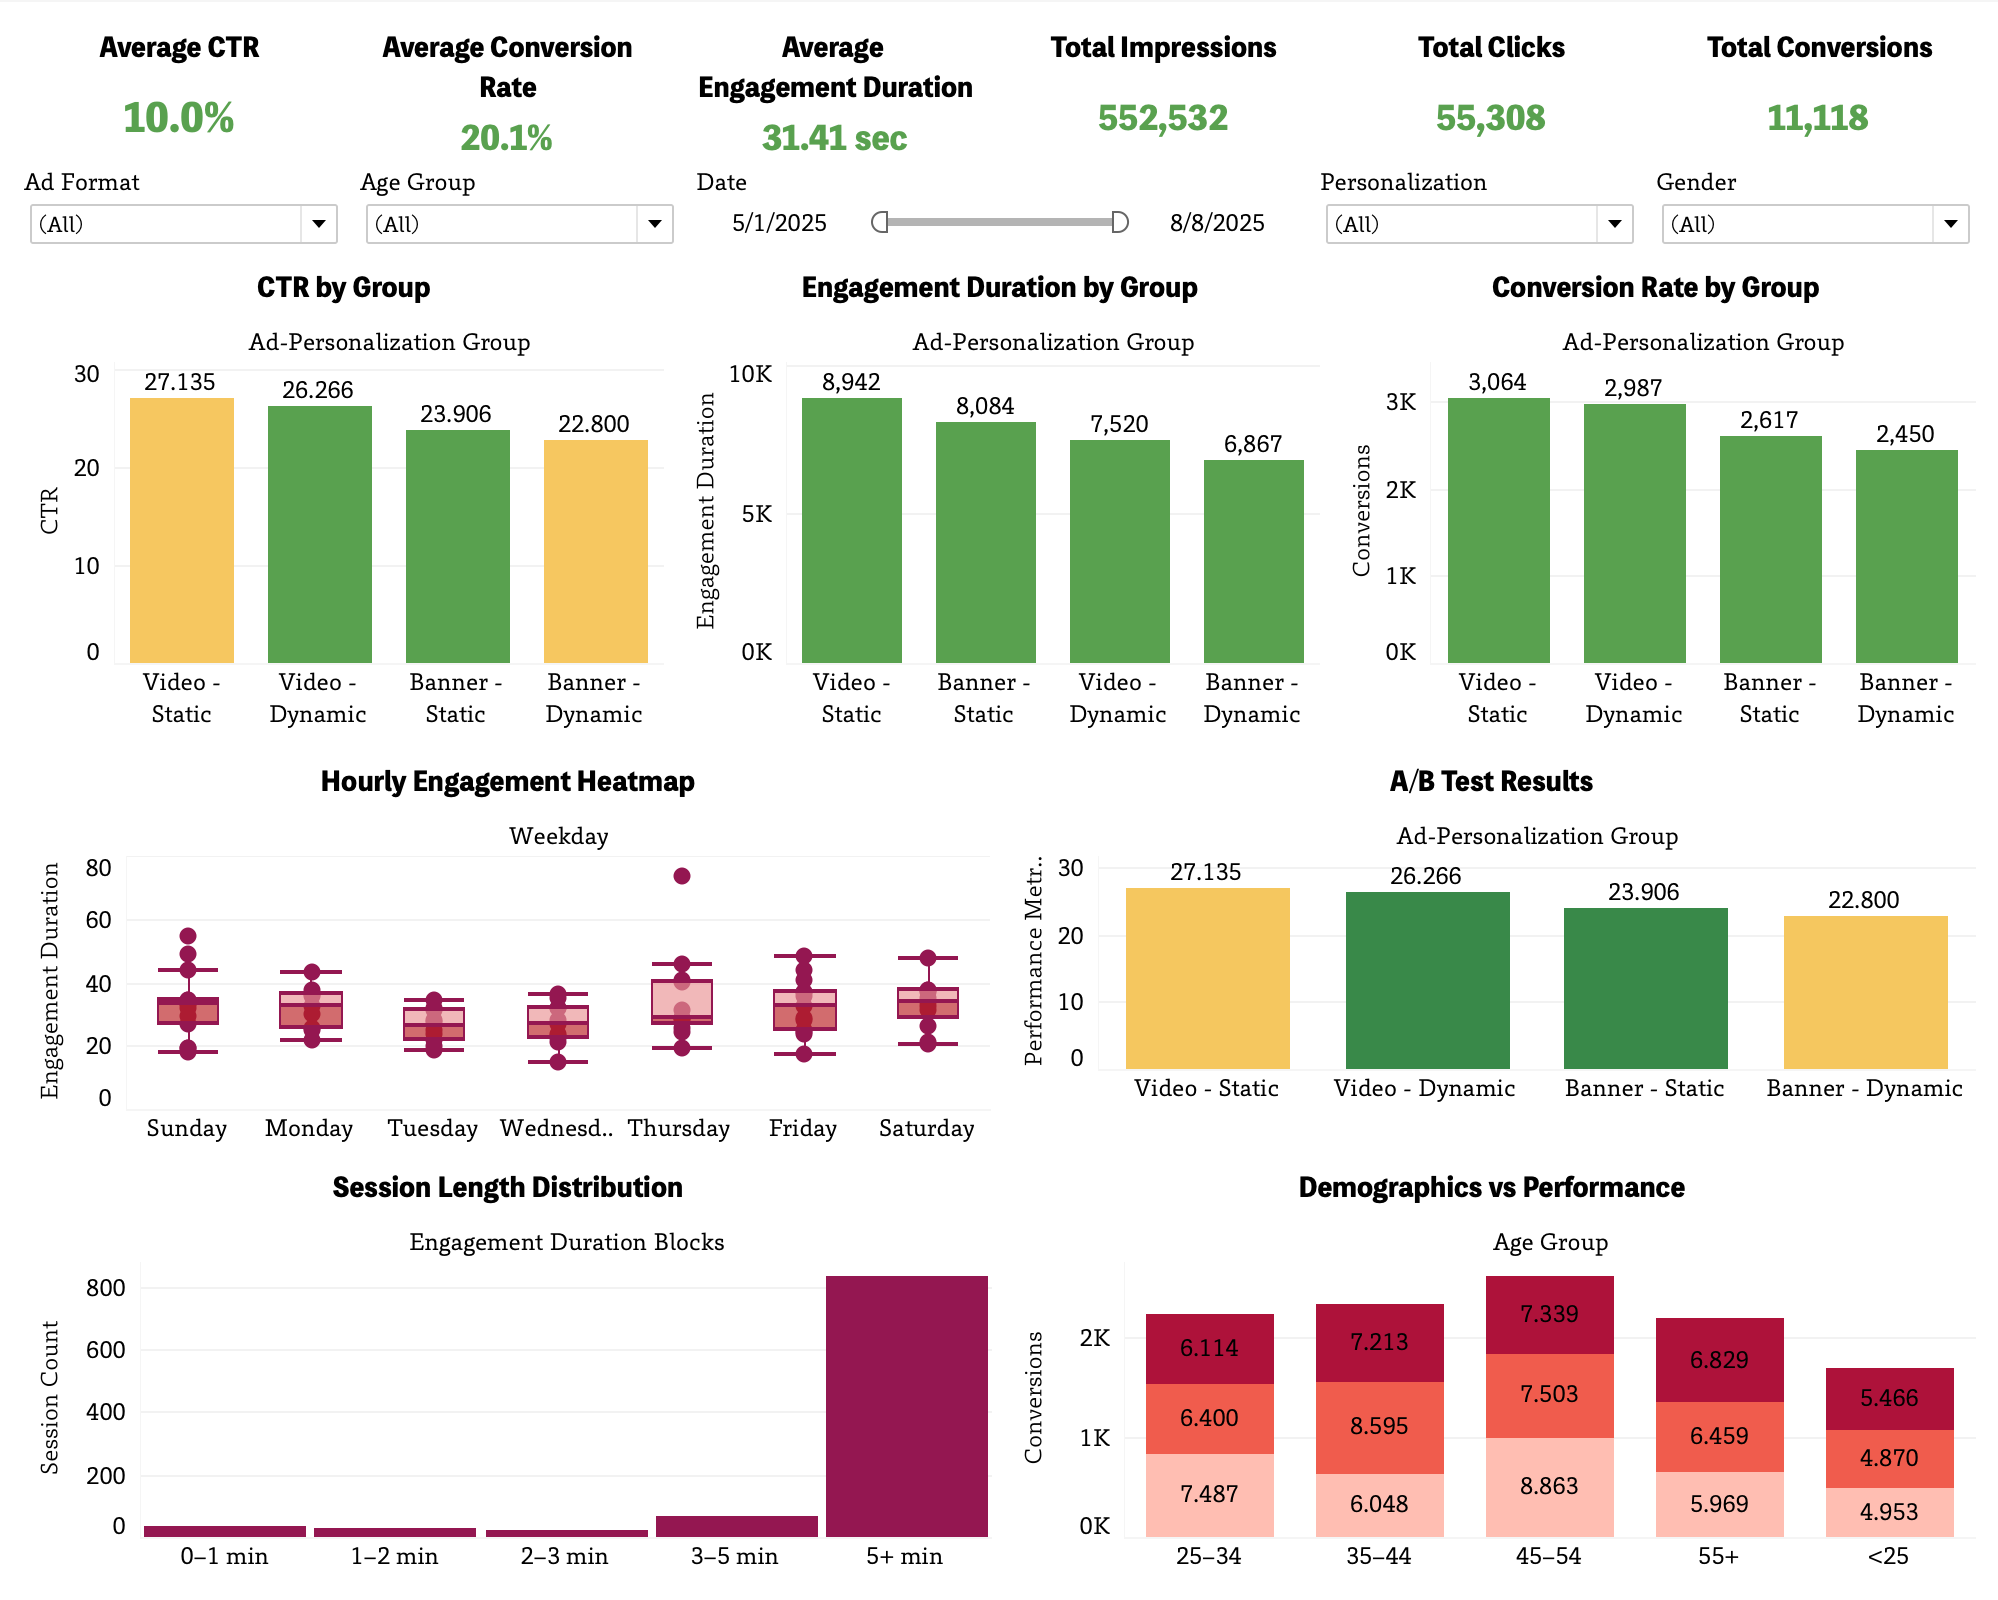

The page's visual inventory and layout, read from the dashboard file:
{"tool":"tableau","page":{"name":"Dashboard 1","canvas":[1000,800],"ordinal":0},"visuals":[{"type":"worksheet","title":"KPI Overview - CTR","mark":"Automatic","box":[8,8,164,72]},{"type":"worksheet","title":"KPI Overview - Conversion Rate","mark":"Automatic","box":[172,8,164,72]},{"type":"worksheet","title":"KPI Overview - Engagement Duration","mark":"Automatic","box":[336,8,164,72]},{"type":"worksheet","title":"KPI Overview - Total Impressions","mark":"Automatic","box":[500,8,164,72]},{"type":"worksheet","title":"KPI Overview - Total Clicks","mark":"Automatic","box":[664,8,164,72]},{"type":"worksheet","title":"KPI Overview - Total Conversions","mark":"Automatic","box":[828,8,164,72]},{"type":"filter","title":"KPI Overview - CTR","param":"[federated.14p4e0f1i6yzbu17s9sfd10hljon].[none:ad_format:nk]","box":[8,80,168,48]},{"type":"filter","title":"KPI Overview - CTR","param":"[federated.14p4e0f1i6yzbu17s9sfd10hljon].[none:Calculation_3342585738426736662:n","box":[176,80,168,48]},{"type":"filter","title":"KPI Overview - CTR","param":"[federated.14p4e0f1i6yzbu17s9sfd10hljon].[none:interaction:qk]","box":[344,80,312,48]},{"type":"filter","title":"KPI Overview - CTR","param":"[federated.14p4e0f1i6yzbu17s9sfd10hljon].[none:personalization:nk]","box":[656,80,168,48]},{"type":"filter","title":"KPI Overview - CTR","param":"[federated.14p4e0f1i6yzbu17s9sfd10hljon].[none:gender:nk]","box":[824,80,168,48]},{"type":"worksheet","title":"CTR by Group","mark":"Bar","rows":["ctr"],"cols":["Calculation_3342585738415947795"],"box":[8,128,328,247]},{"type":"worksheet","title":"Engagement Duration by Group","mark":"Automatic","rows":["engagement_duration"],"cols":["Calculation_3342585738415947795"],"box":[336,128,328,247]},{"type":"worksheet","title":"Conversion Rate by Group","mark":"Automatic","rows":["conversions"],"cols":["Calculation_3342585738415947795"],"box":[664,128,328,247]},{"type":"worksheet","title":"Hourly Engagement Heatmap","mark":"Circle","rows":["Calculation_3342585738112802817"],"cols":["Calculation_3342585738394431503"],"box":[8,375,492,203]},{"type":"worksheet","title":"A/B Test Results","mark":"Automatic","rows":["Calculation_3342585738421579796"],"cols":["Calculation_3342585738415947795"],"box":[500,375,492,203]},{"type":"worksheet","title":"Session Length Distribution","mark":"Automatic","rows":["Calculation_3342585738408837138"],"cols":["Calculation_3342585739472158779"],"box":[8,578,492,214]},{"type":"worksheet","title":"Demo vs Performance","mark":"Automatic","rows":["conversions"],"cols":["Calculation_3342585738426736662"],"box":[500,578,492,214]}]}

Visuals, with their boxes in screenshot pixels (x1, y1, x2, y2), scaled from the page's 1000x800 canvas onto the 1998x1600 screenshot:
"KPI Overview - CTR" worksheet: bbox=(16, 16, 344, 160)
"KPI Overview - Conversion Rate" worksheet: bbox=(344, 16, 671, 160)
"KPI Overview - Engagement Duration" worksheet: bbox=(671, 16, 999, 160)
"KPI Overview - Total Impressions" worksheet: bbox=(999, 16, 1327, 160)
"KPI Overview - Total Clicks" worksheet: bbox=(1327, 16, 1654, 160)
"KPI Overview - Total Conversions" worksheet: bbox=(1654, 16, 1982, 160)
"KPI Overview - CTR" filter: bbox=(16, 160, 352, 256)
"KPI Overview - CTR" filter: bbox=(352, 160, 687, 256)
"KPI Overview - CTR" filter: bbox=(687, 160, 1311, 256)
"KPI Overview - CTR" filter: bbox=(1311, 160, 1646, 256)
"KPI Overview - CTR" filter: bbox=(1646, 160, 1982, 256)
"CTR by Group" worksheet (Bar marks): bbox=(16, 256, 671, 750)
"Engagement Duration by Group" worksheet: bbox=(671, 256, 1327, 750)
"Conversion Rate by Group" worksheet: bbox=(1327, 256, 1982, 750)
"Hourly Engagement Heatmap" worksheet (Circle marks): bbox=(16, 750, 999, 1156)
"A/B Test Results" worksheet: bbox=(999, 750, 1982, 1156)
"Session Length Distribution" worksheet: bbox=(16, 1156, 999, 1584)
"Demo vs Performance" worksheet: bbox=(999, 1156, 1982, 1584)
